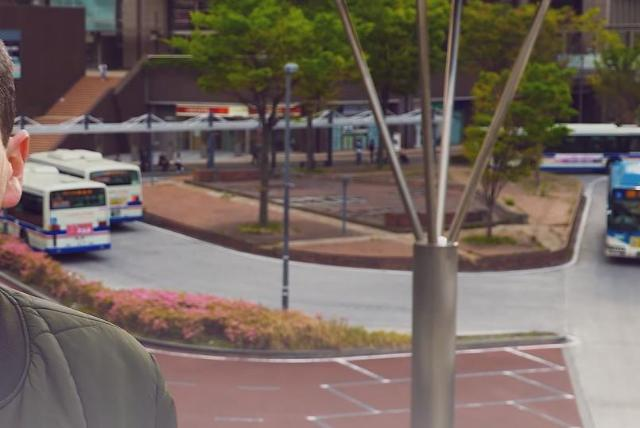bus: (0, 164, 114, 252), (28, 149, 145, 227), (480, 127, 638, 173), (607, 160, 640, 265)
